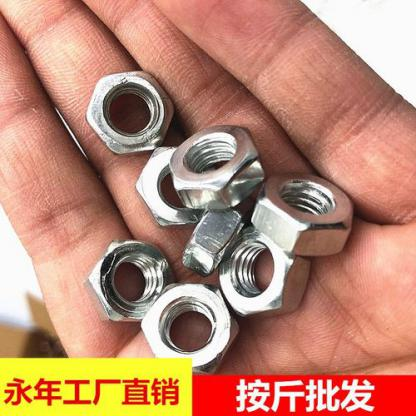FOD: (213, 226, 314, 321), (139, 282, 244, 372), (254, 172, 357, 260), (168, 120, 267, 211), (82, 70, 176, 158), (81, 239, 177, 324), (133, 144, 223, 230), (181, 207, 246, 278)
